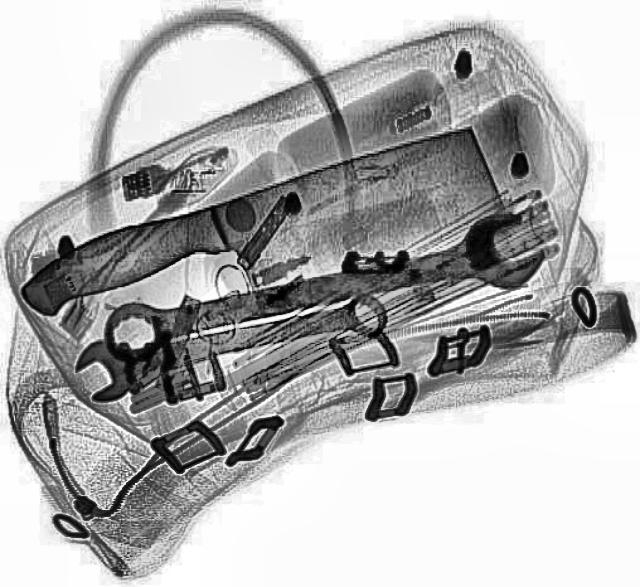Knife: (8, 122, 514, 366)
Wrench: (91, 204, 559, 374), (65, 279, 393, 405)
